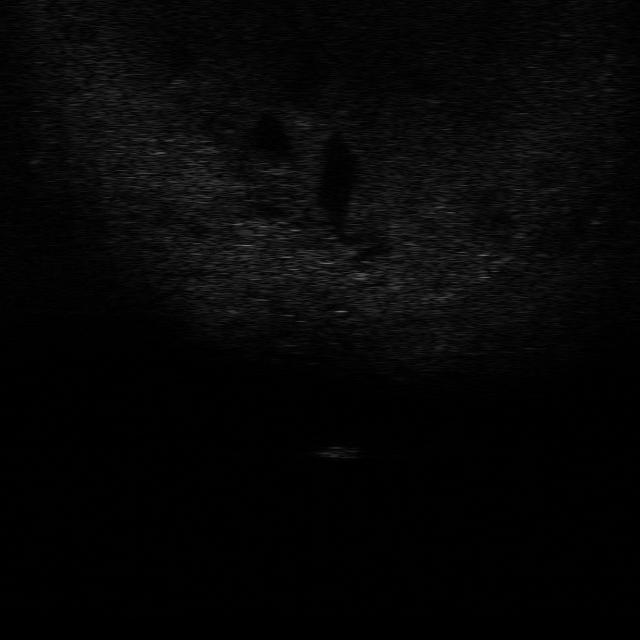cube: (309, 440, 370, 459)
